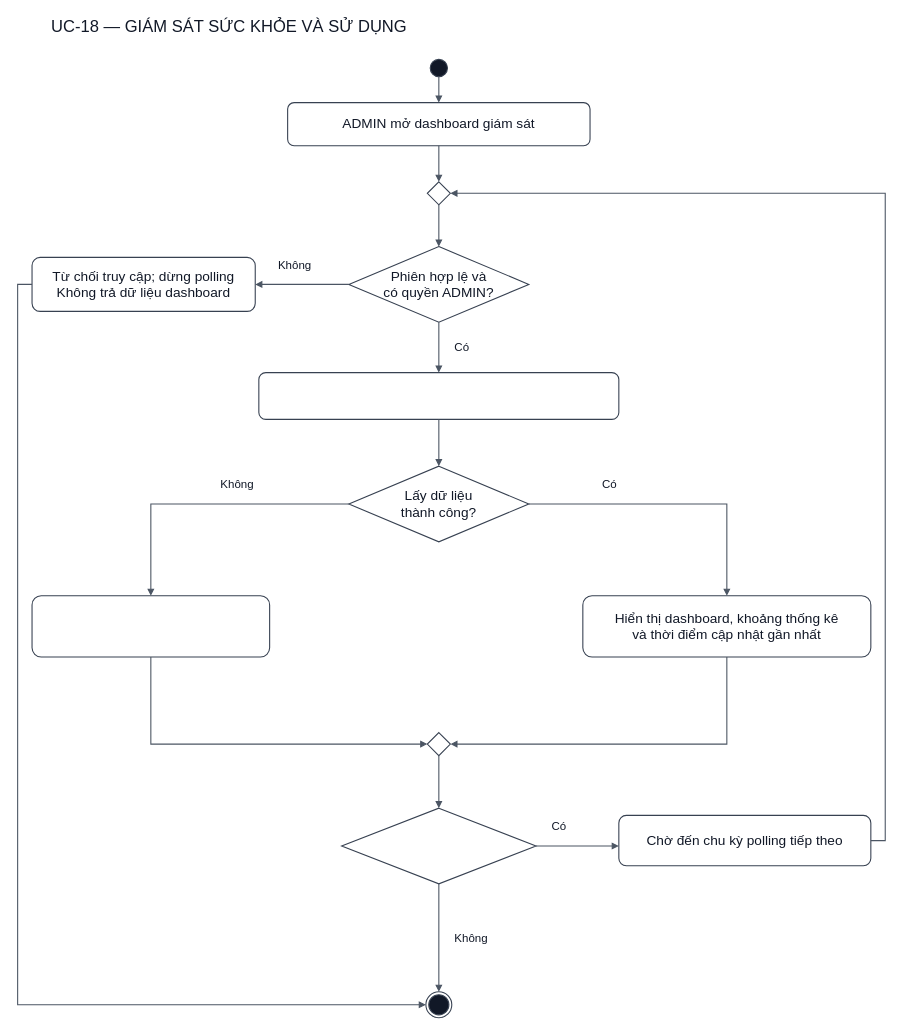
The diagram is 904 pixels wide and 1030 high, and some of its shapes have lost their labels. Each missing label, with the centre of its shape:
"Báo nguồn/chỉ số không khả dụng; nếu giữ số cũ thì ghi rõ thời điểm" goes at pixel 150 626.
"Lấy sức khỏe hệ thống và thống kê sử dụng" goes at pixel 438 396.
"Trang còn mở và cần tiếp tục theo dõi?" goes at pixel 438 845.
